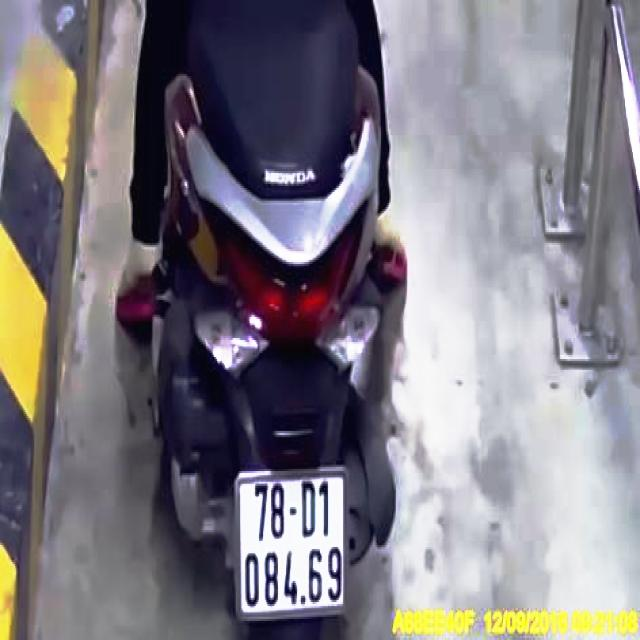license_plate: (237, 476, 348, 618)
